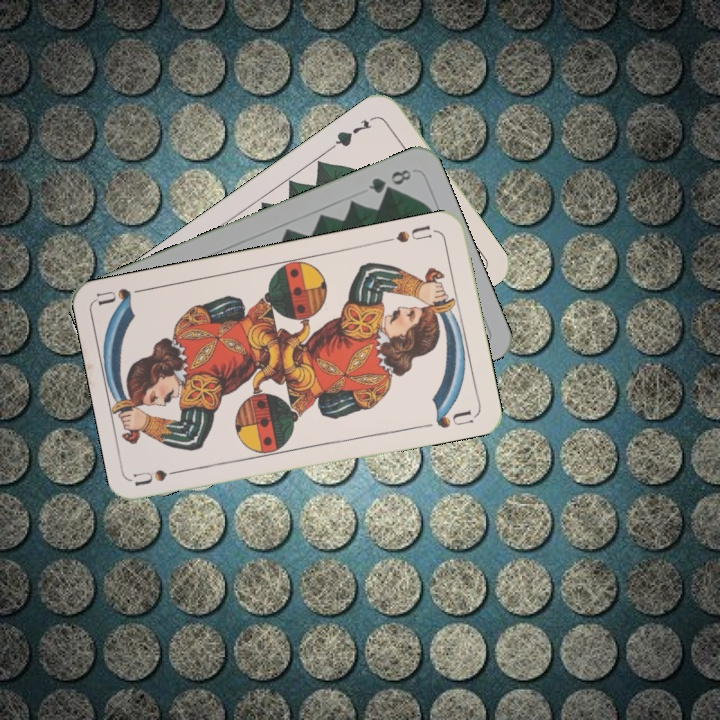G7: (327, 112, 379, 152)
G8: (364, 165, 414, 196)
SU: (380, 221, 439, 246), (132, 464, 191, 488)
